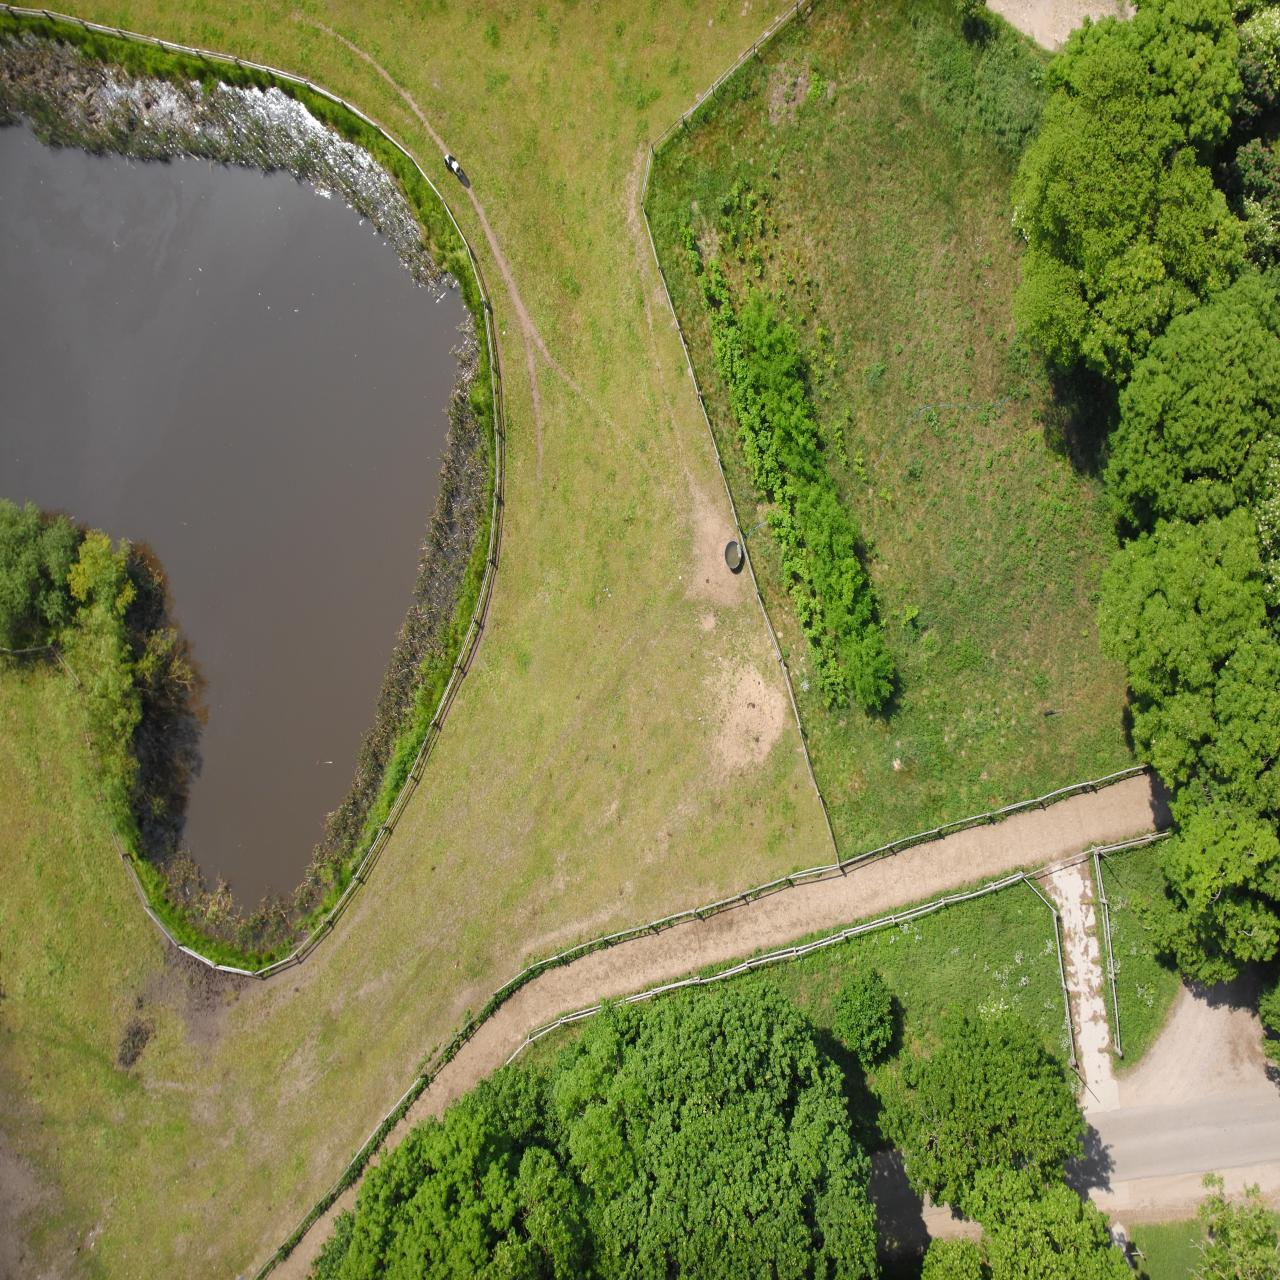cow: (816, 1102, 836, 1126)
